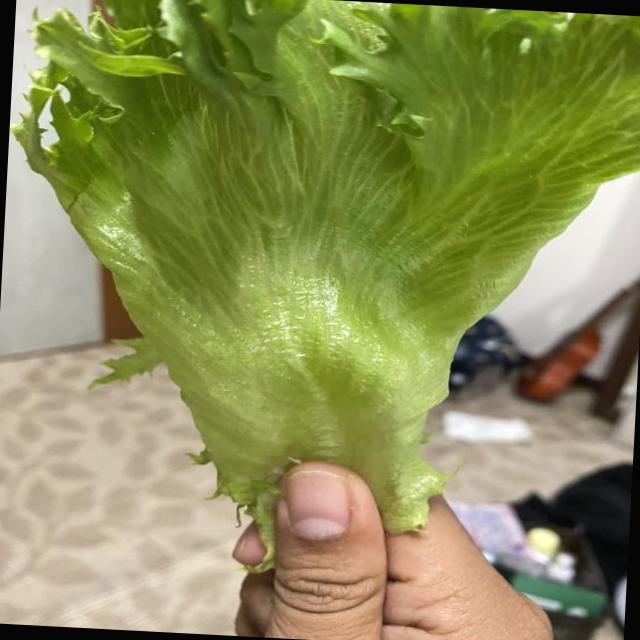Lettuce-Ready-to-Harvest: (14, 0, 640, 550)
